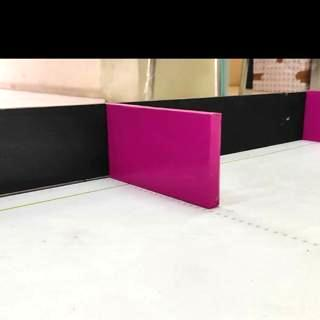xparking: (108, 114, 220, 194), (308, 92, 320, 140)
